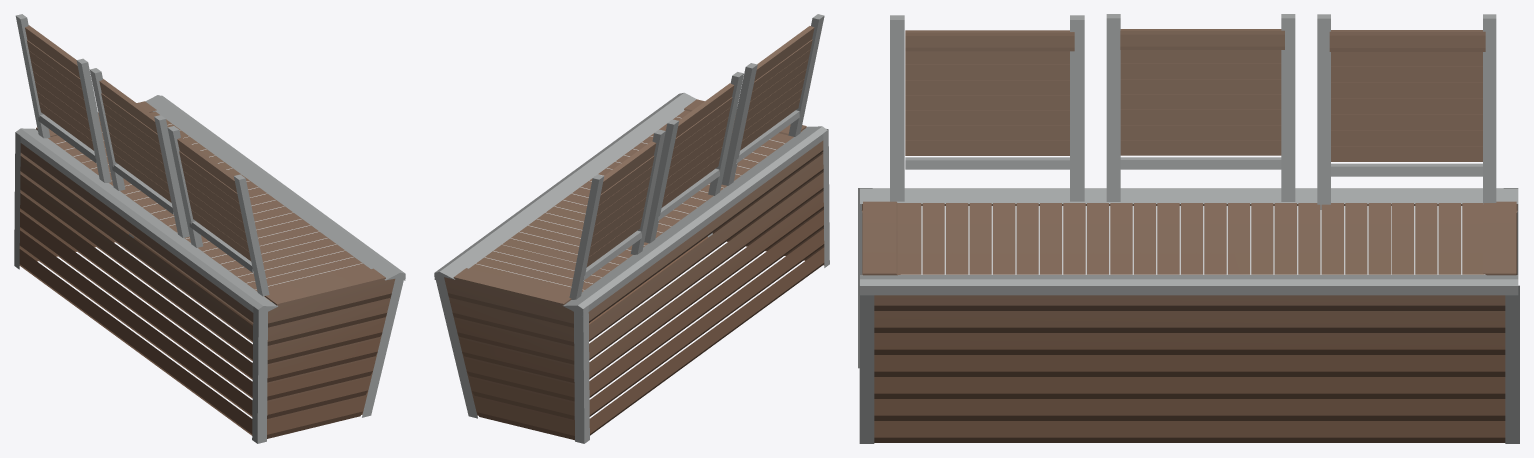
The model's file is Bench.fbx.
3 views of the same model, side by side, from view 1: azimuth 30°, elevation 25°; view 2: azimuth 150°, elevation 25°; view 3: azimuth 270°, elevation 25° (orthographic). The views are drawn at different scales.
Parts seen in each view (by area): view 1: Plane.043; view 2: Plane.043; view 3: Plane.043.
Boxes of the visible parts, bbox=[...] form: Plane.043: bbox=[14, 14, 405, 443]; Plane.043: bbox=[434, 14, 829, 443]; Plane.043: bbox=[858, 14, 1519, 443].
Bounding box in the file's own units: 1.4 × 3.81 × 2.22.
